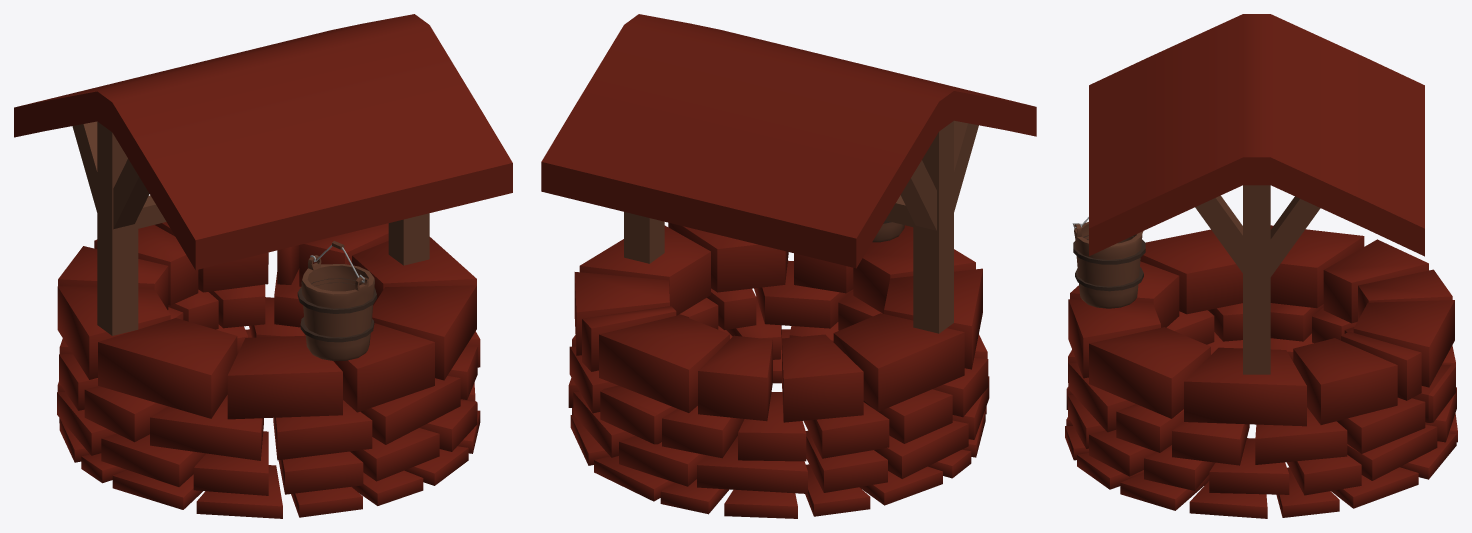
File: WaterWell.fbx
The picture shows the model from 3 angles, left to right: view 1: azimuth 30°, elevation 25°; view 2: azimuth 150°, elevation 25°; view 3: azimuth 270°, elevation 25°; orthographic projection. The views are drawn at different scales.
Parts seen in each view (by area): view 1: WaterWell; view 2: WaterWell; view 3: WaterWell.
Part boxes in pixels (left/top/right/bottom): WaterWell: left=14, top=14, right=512, bottom=518; WaterWell: left=541, top=14, right=1036, bottom=518; WaterWell: left=1065, top=14, right=1457, bottom=518.
Size of the model in its own units: 274 by 267 by 274.
